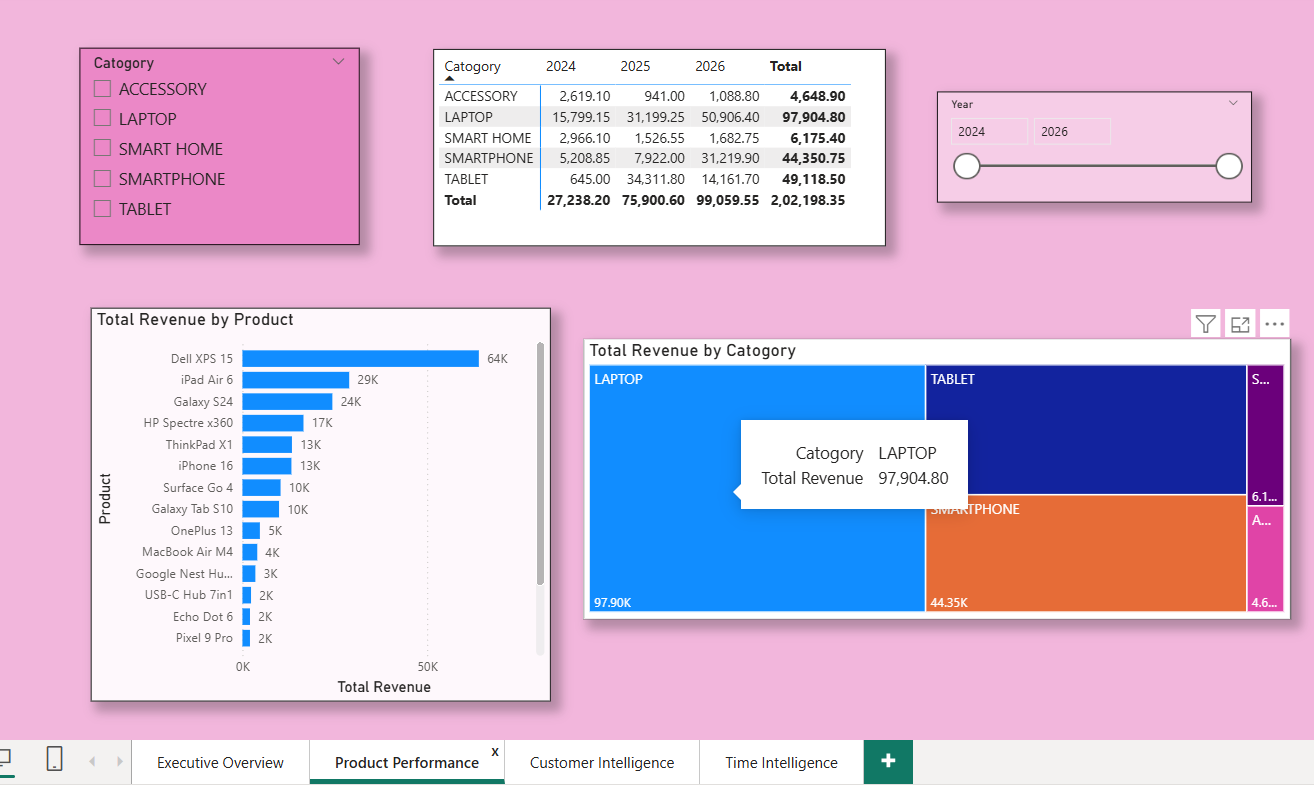

What the dashboard file says about the page in this screenshot:
{"tool":"powerbi","page":{"name":"Product Performance","canvas":[1280,720],"ordinal":1},"visuals":[{"type":"clusteredBarChart","fields":{"Category":["clean_sales_analytics_processed.Product"],"Y":["clean_sales_analytics_processed.Total Revenue"]},"box":[90,302.9,444.3,380],"z":0},{"type":"pivotTable","fields":{"Rows":["clean_sales_analytics_processed.Catogory"],"Columns":["clean_sales_analytics_processed.Year"],"Values":["clean_sales_analytics_processed.Total Revenue"]},"box":[421.4,52.9,437.1,190],"z":1000},{"type":"treemap","fields":{"Group":["clean_sales_analytics_processed.Catogory"],"Values":["clean_sales_analytics_processed.Total Revenue"]},"box":[565.7,332.9,682.9,270],"z":2000},{"type":"slicer","fields":{"Values":["clean_sales_analytics_processed.Catogory"]},"box":[80,51.4,270,190],"z":3000},{"type":"slicer","fields":{"Values":["clean_sales_analytics_processed.Year"]},"box":[907.1,94.3,304.3,107.1],"z":4000}]}

Visuals, with their boxes on the page's 1280x720 design canvas (x1, y1, x2, y2). These are canvas units, not pixel positions in the 1314x785 screenshot, which may show the page scaled, cropped or inside an application window:
clusteredBarChart - clean_sales_analytics_processed.Product x clean_sales_analytics_processed.Total Revenue: bbox(90, 303, 534, 683)
pivotTable - clean_sales_analytics_processed.Catogory x clean_sales_analytics_processed.Year: bbox(421, 53, 858, 243)
treemap - clean_sales_analytics_processed.Catogory x clean_sales_analytics_processed.Total Revenue: bbox(566, 333, 1249, 603)
slicer - clean_sales_analytics_processed.Catogory: bbox(80, 51, 350, 241)
slicer - clean_sales_analytics_processed.Year: bbox(907, 94, 1211, 201)
